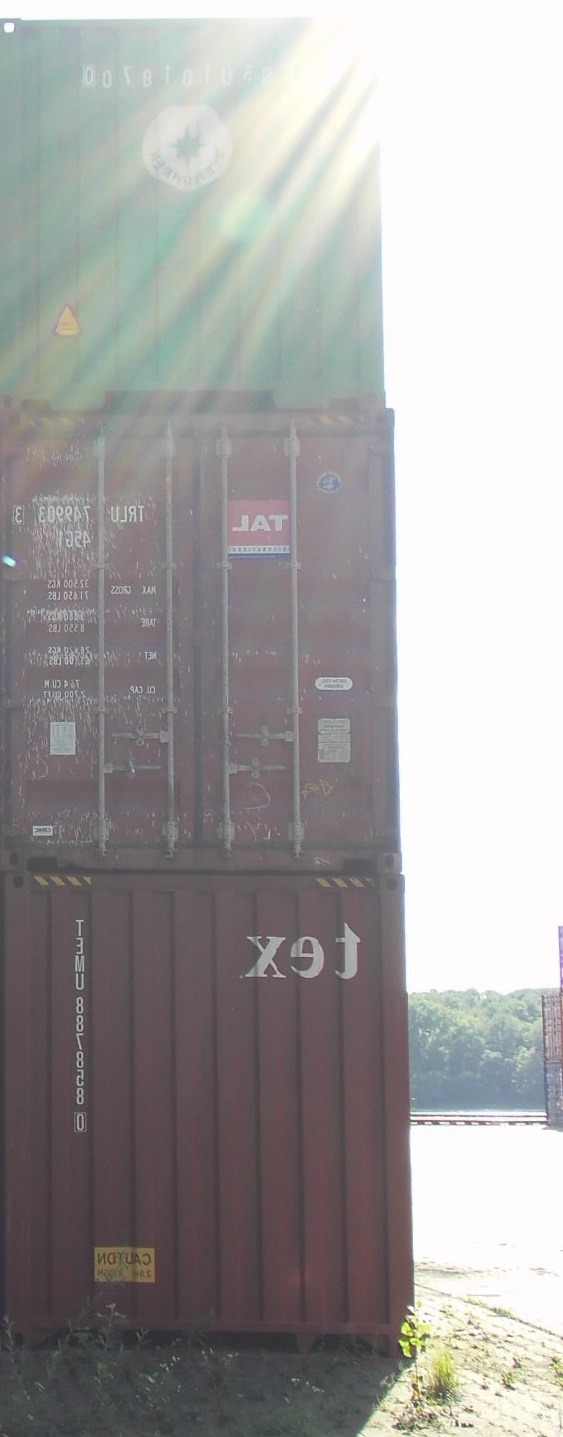container_door: (1, 410, 398, 873)
container_no_door: (1, 872, 416, 1356), (5, 6, 387, 408)
